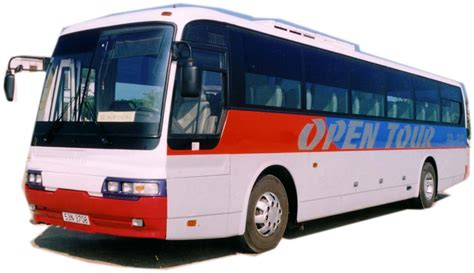bus: (26, 6, 467, 249)
